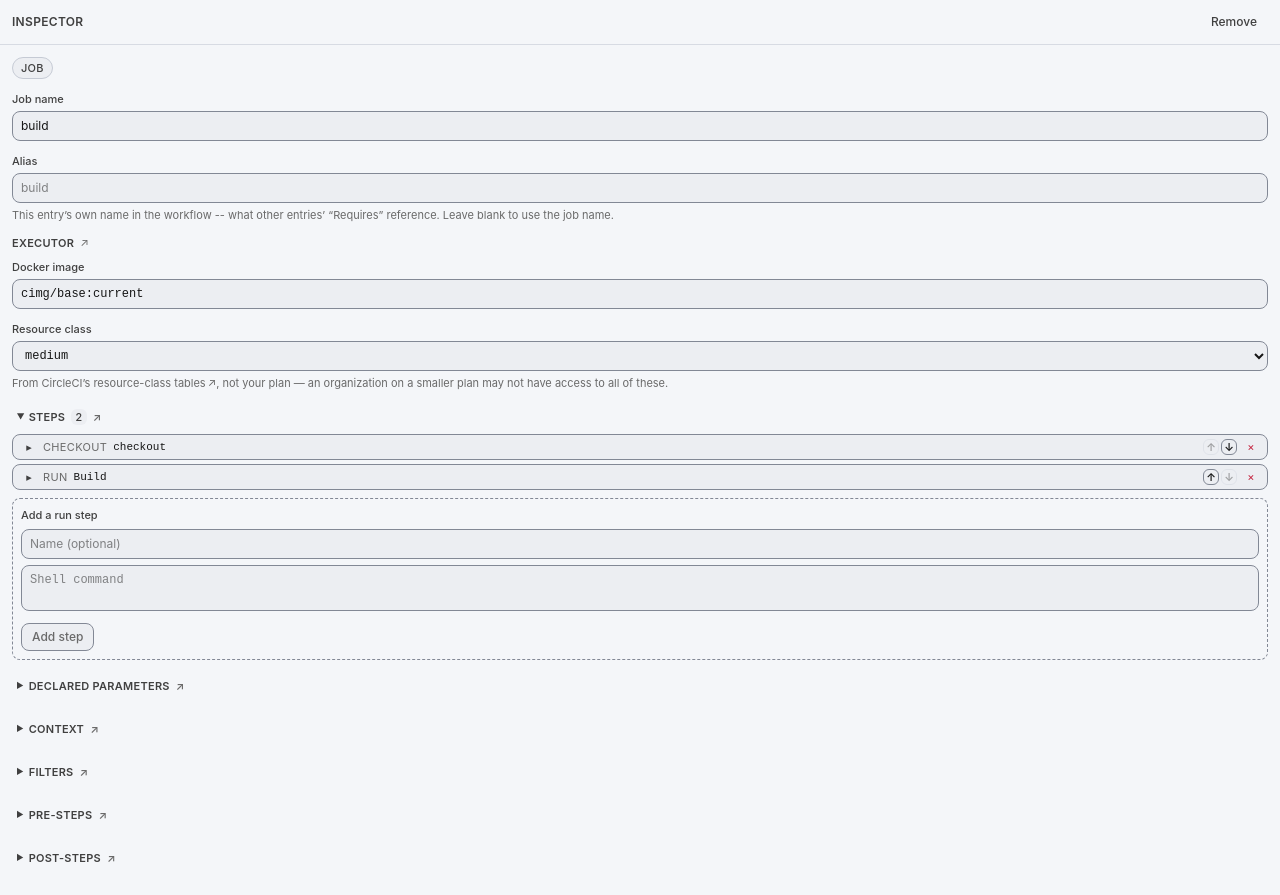
it: Inspector › blocks a rename that collides with an existing job name, and leaves the doc unchanged
The image size is (1280, 895).
Replace the text in the field labelled "Job name" with "test" at [640, 126], box [12, 111, 1268, 141]
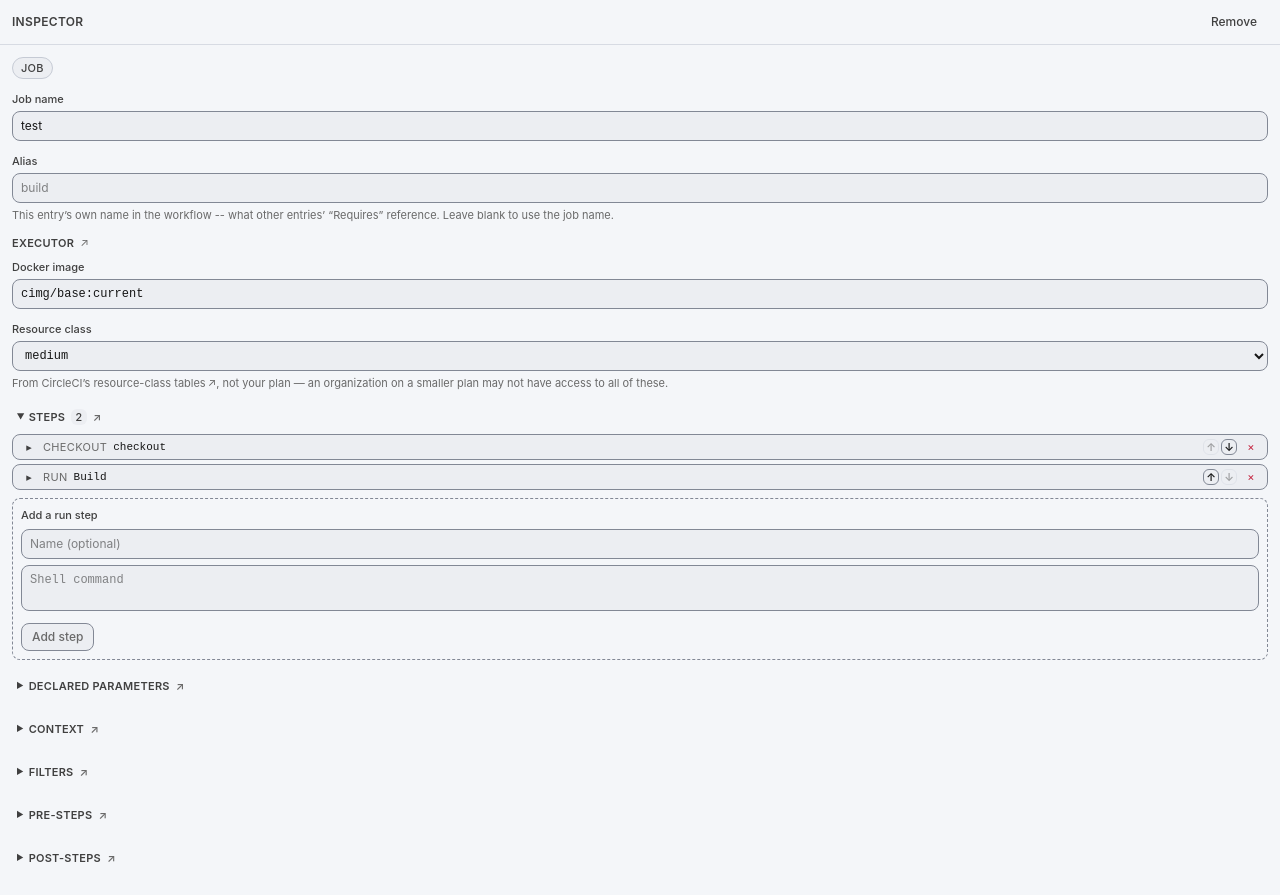
Leave the field labelled "Job name", box [12, 111, 1268, 141]
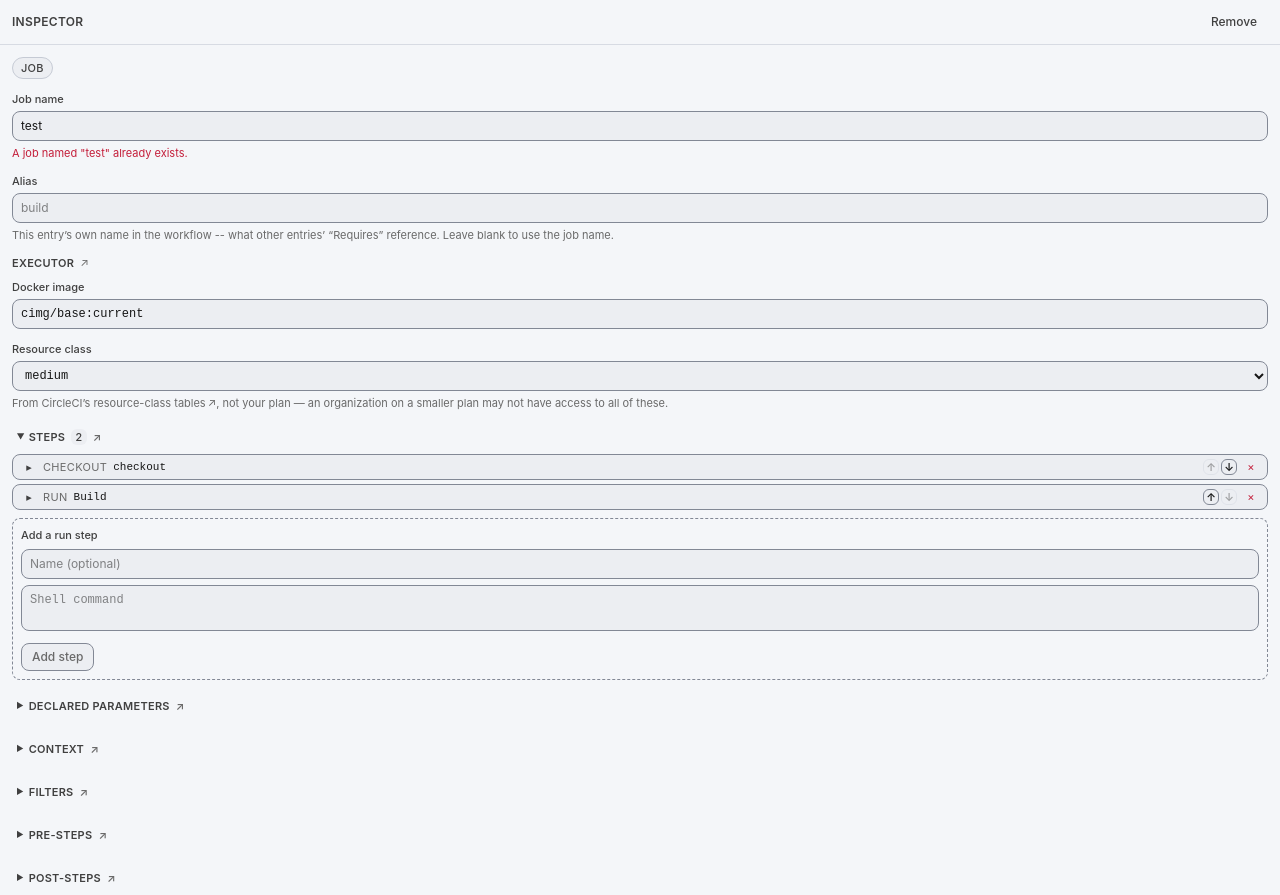
Expected: the text "A job named \"test\" already exists." is shown, [12, 146, 188, 160]
